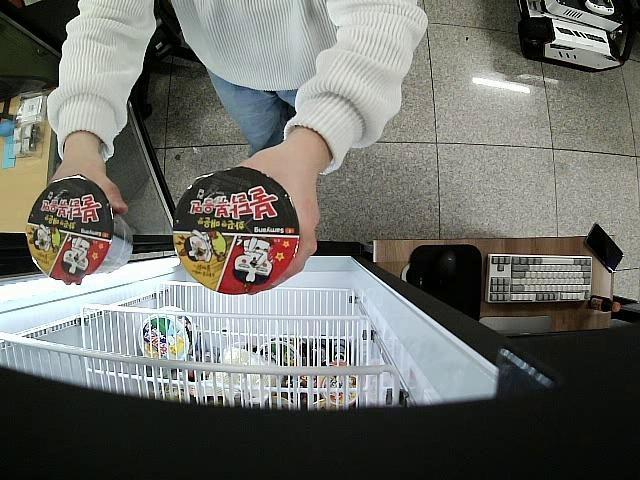08_buldak_S: (173, 167, 300, 294), (24, 176, 135, 278)
